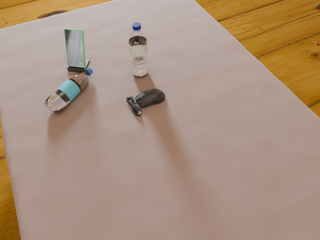bottle: (45, 67, 93, 113), (129, 23, 148, 77)
mouse: (127, 89, 165, 116)
phone: (64, 28, 86, 70)
